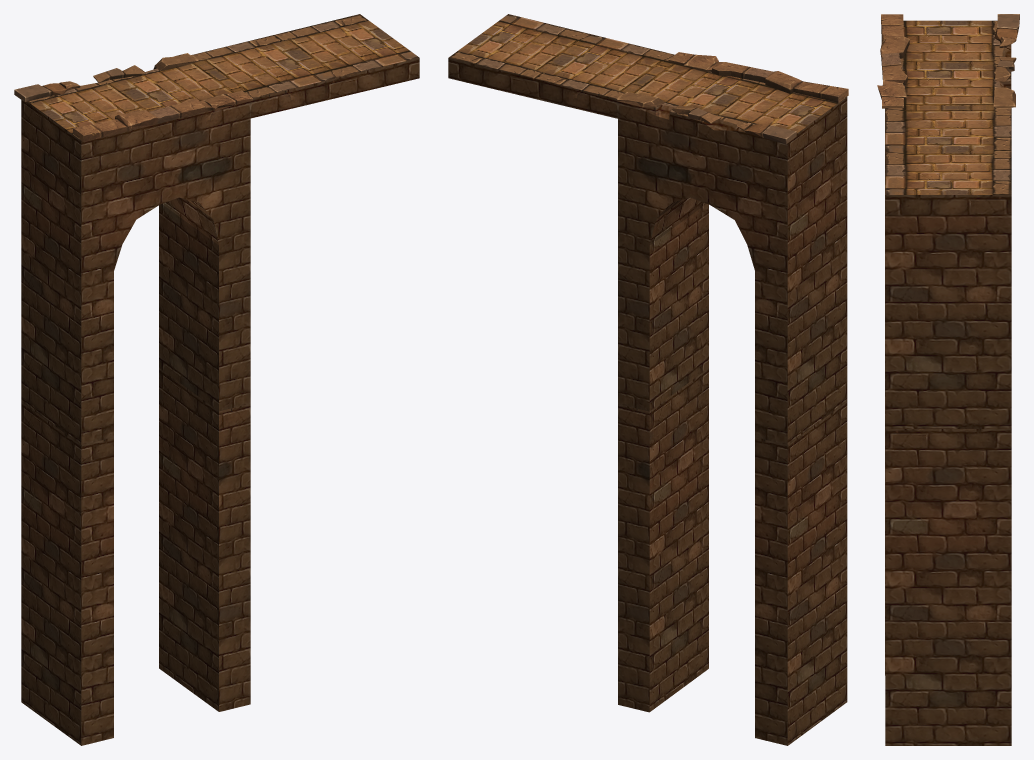
Rendered from Qiao04.FBX.
3 renders of one model, left to right at view 1: azimuth 30°, elevation 25°; view 2: azimuth 150°, elevation 25°; view 3: azimuth 270°, elevation 25°, orthographic. The views are drawn at different scales.
Visible parts, largest first — view 1: Qiao04; view 2: Qiao04; view 3: Qiao04.
Boxes of the visible parts, bbox=[...] form: Qiao04: bbox=[14, 14, 419, 745]; Qiao04: bbox=[448, 14, 848, 745]; Qiao04: bbox=[877, 14, 1019, 745].
Bounding box in the file's own units: 697 × 1195 × 239.
